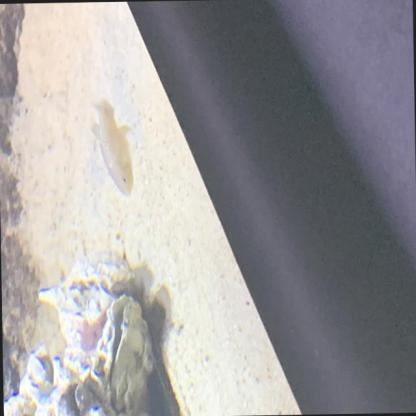fish: (87, 97, 137, 198)
